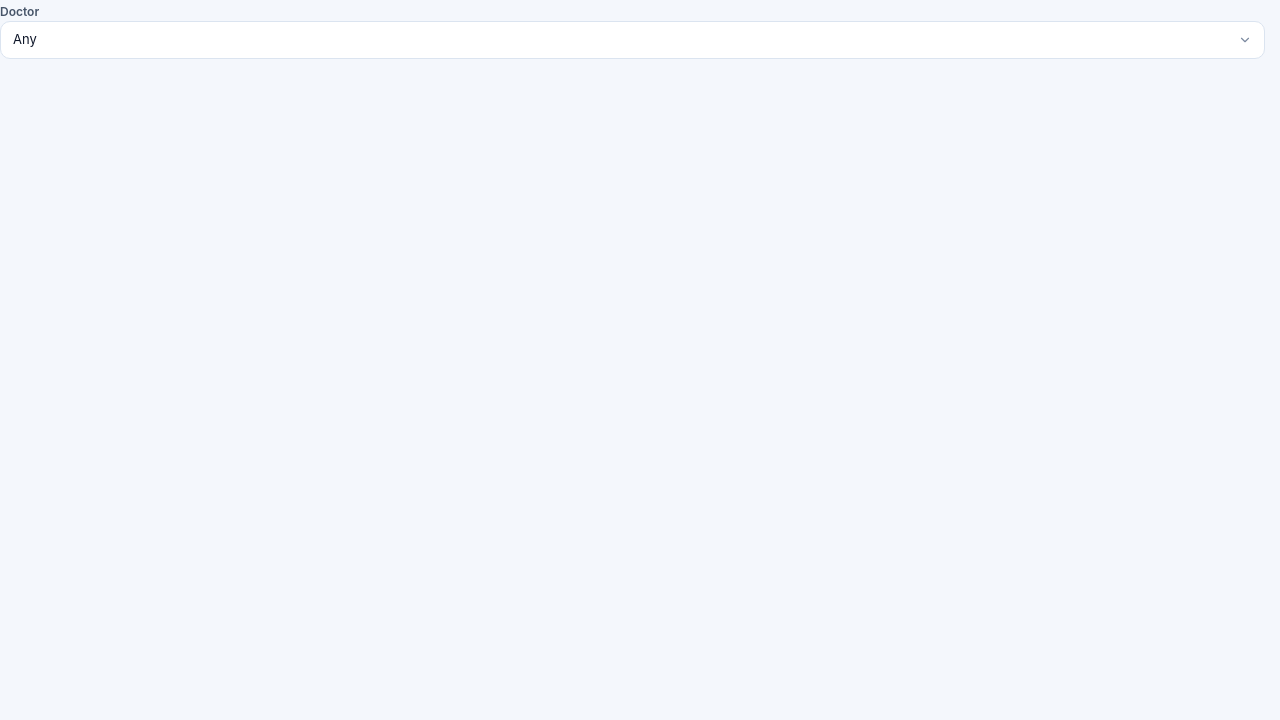
it: matches the detail line in the search box
Click the dropdown named "Doctor" at (25, 39), box [0,21,1265,59]
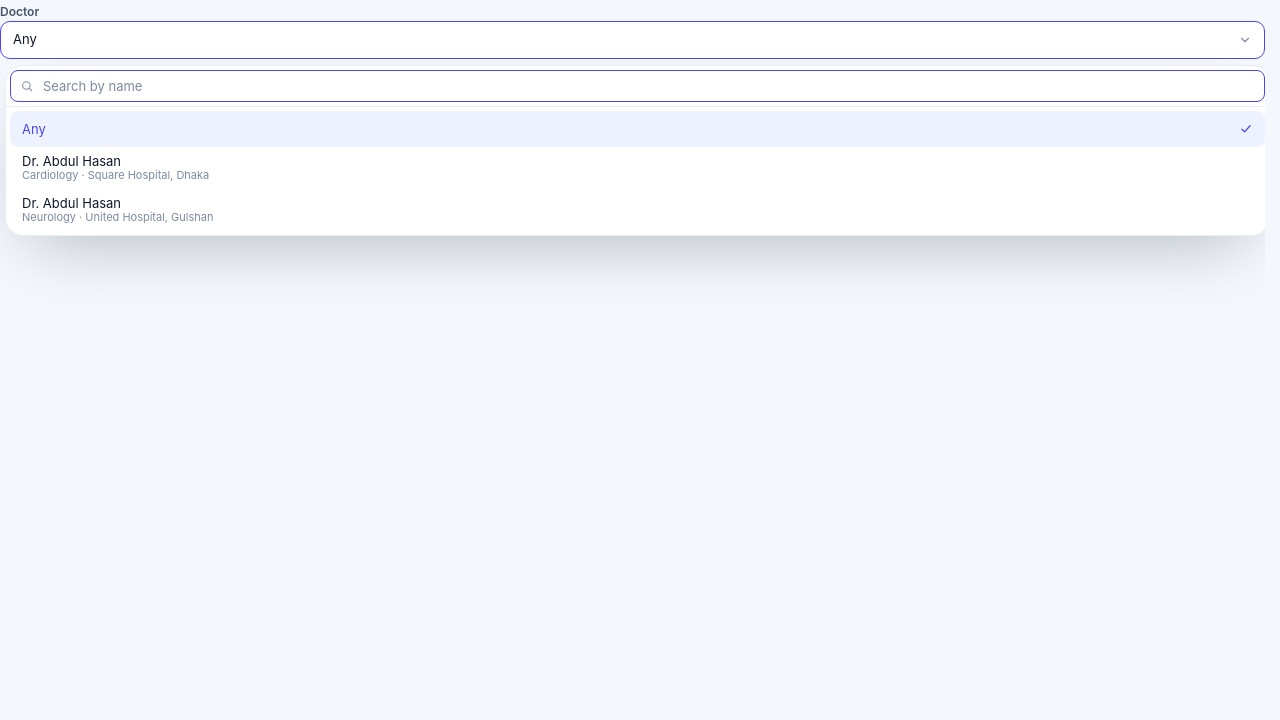
Type "neurology" into the dropdown named "Search doctors" at (638, 86), box [10,70,1265,102]
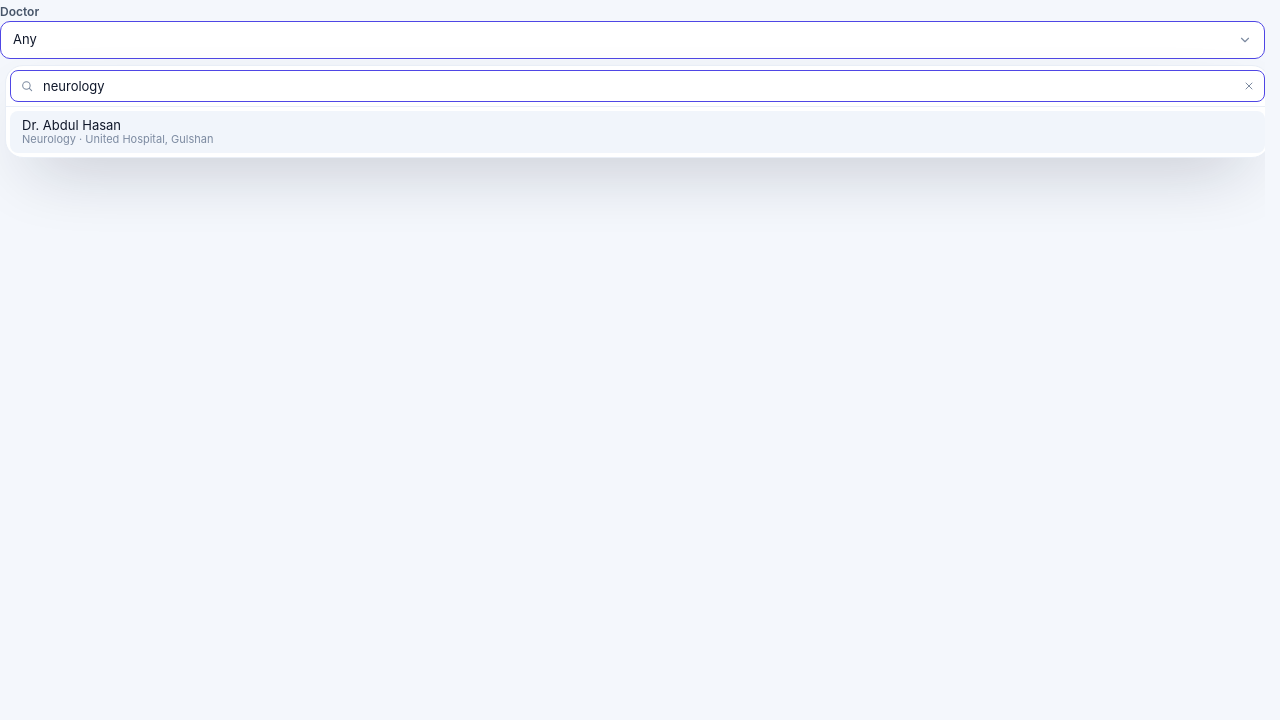
expect the option "Dr. Abdul Hasan Neurology · United Hospital, Gulshan" is shown: met, box [10,111,1265,153]
expect the option "Cardiology" is gone: met
